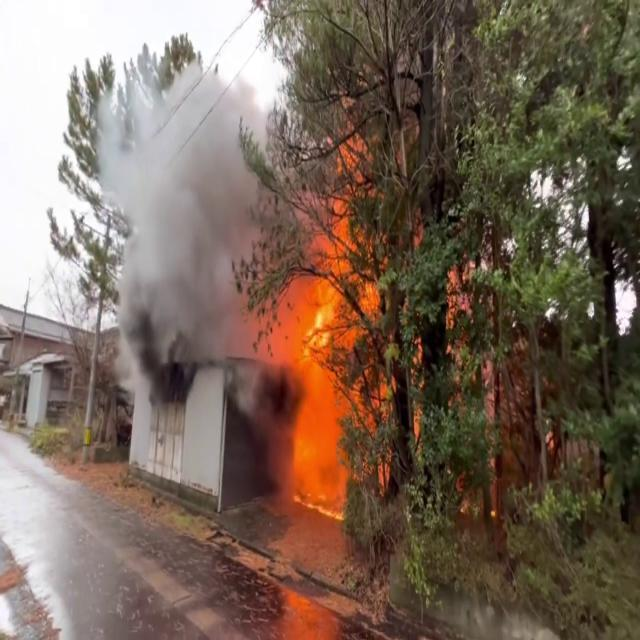Fire: (248, 114, 404, 467)
Smoke: (87, 52, 279, 402)
